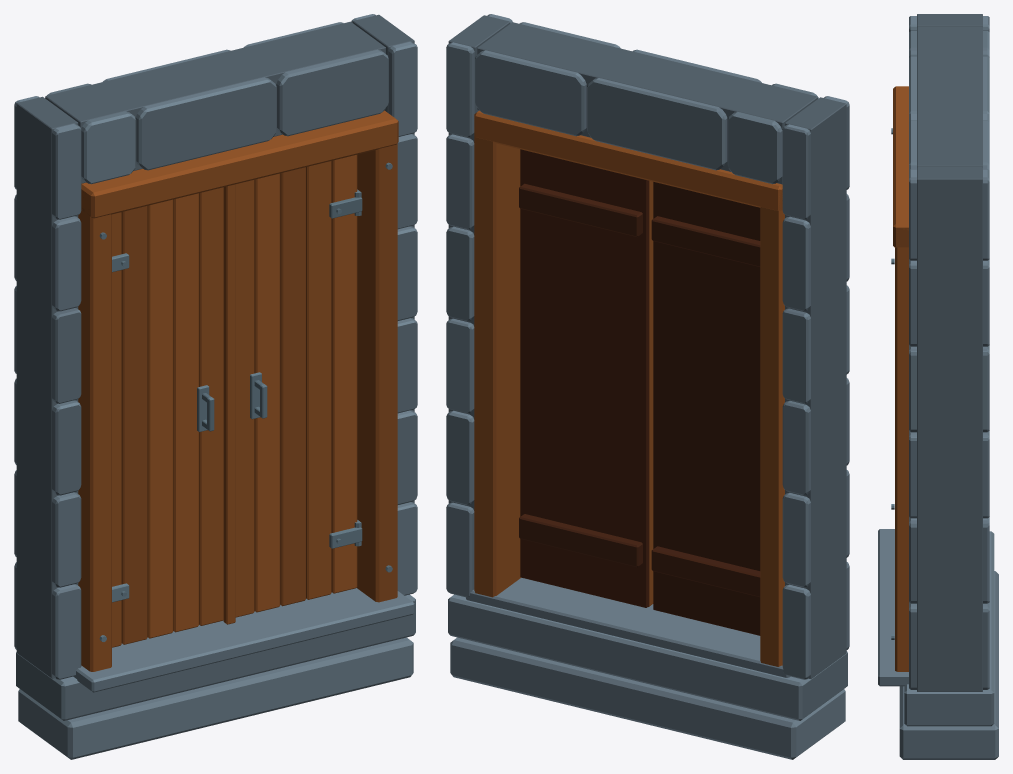
Rendered from QH_Workshop_Entry_2m.fbx.
3 renders of one model, left to right at view 1: azimuth 30°, elevation 25°; view 2: azimuth 150°, elevation 25°; view 3: azimuth 270°, elevation 25°, orthographic. The views are drawn at different scales.
Parts seen in each view (by area): view 1: QH_Workshop_Entry_2m; view 2: QH_Workshop_Entry_2m; view 3: QH_Workshop_Entry_2m.
Part boxes in pixels (x1,y1,x2,y2): QH_Workshop_Entry_2m: [14, 14, 417, 759]; QH_Workshop_Entry_2m: [446, 14, 849, 759]; QH_Workshop_Entry_2m: [878, 14, 998, 759].
Size of the model in its own units: 1.65 by 2.73 by 0.511.
